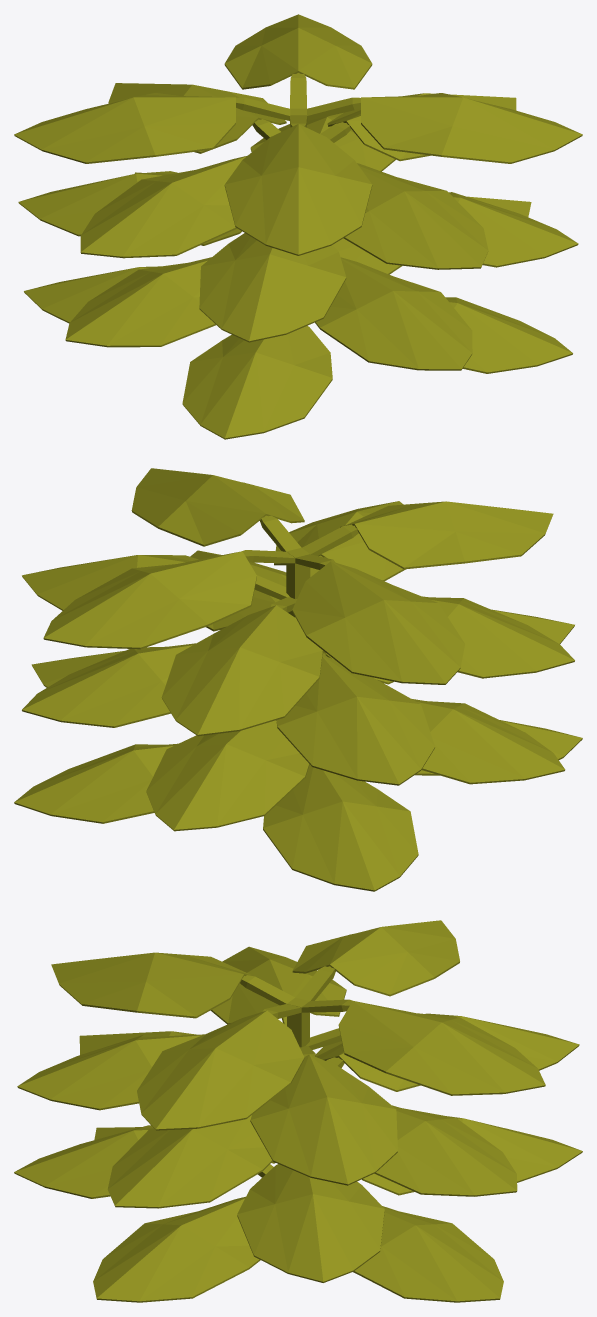
Rendered from Plant_04.obj.
The picture shows the model from 3 angles, top to bottom: view 1: azimuth 30°, elevation 25°; view 2: azimuth 150°, elevation 25°; view 3: azimuth 270°, elevation 25°; orthographic projection. The views are drawn at different scales.
Visible parts, largest first — view 1: Plant_04_Cube.028; view 2: Plant_04_Cube.028; view 3: Plant_04_Cube.028.
Part boxes in pixels (box(x1,y1,x2,y2)): Plant_04_Cube.028: box(14, 14, 582, 439); Plant_04_Cube.028: box(14, 468, 582, 891); Plant_04_Cube.028: box(14, 920, 582, 1302).
Bounding box in the file's own units: 6.29 × 3.18 × 6.29.
